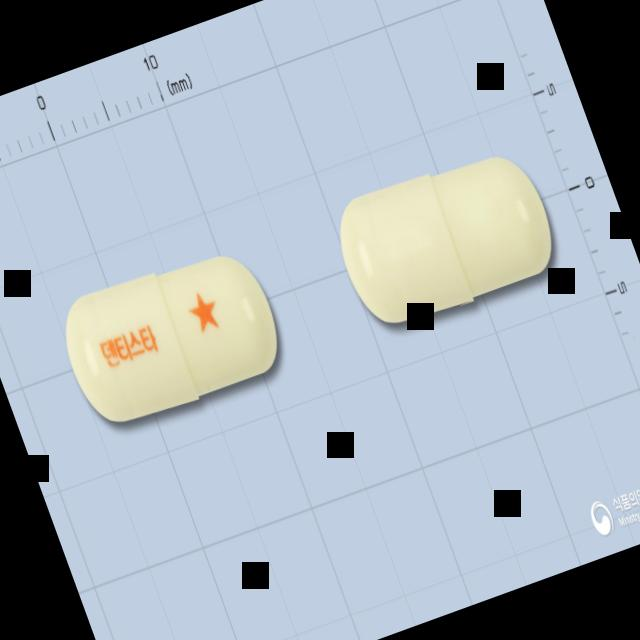Cifxacin: (324, 137, 570, 340), (51, 234, 294, 437)
